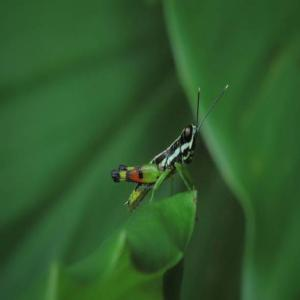locust: (110, 69, 227, 215)
